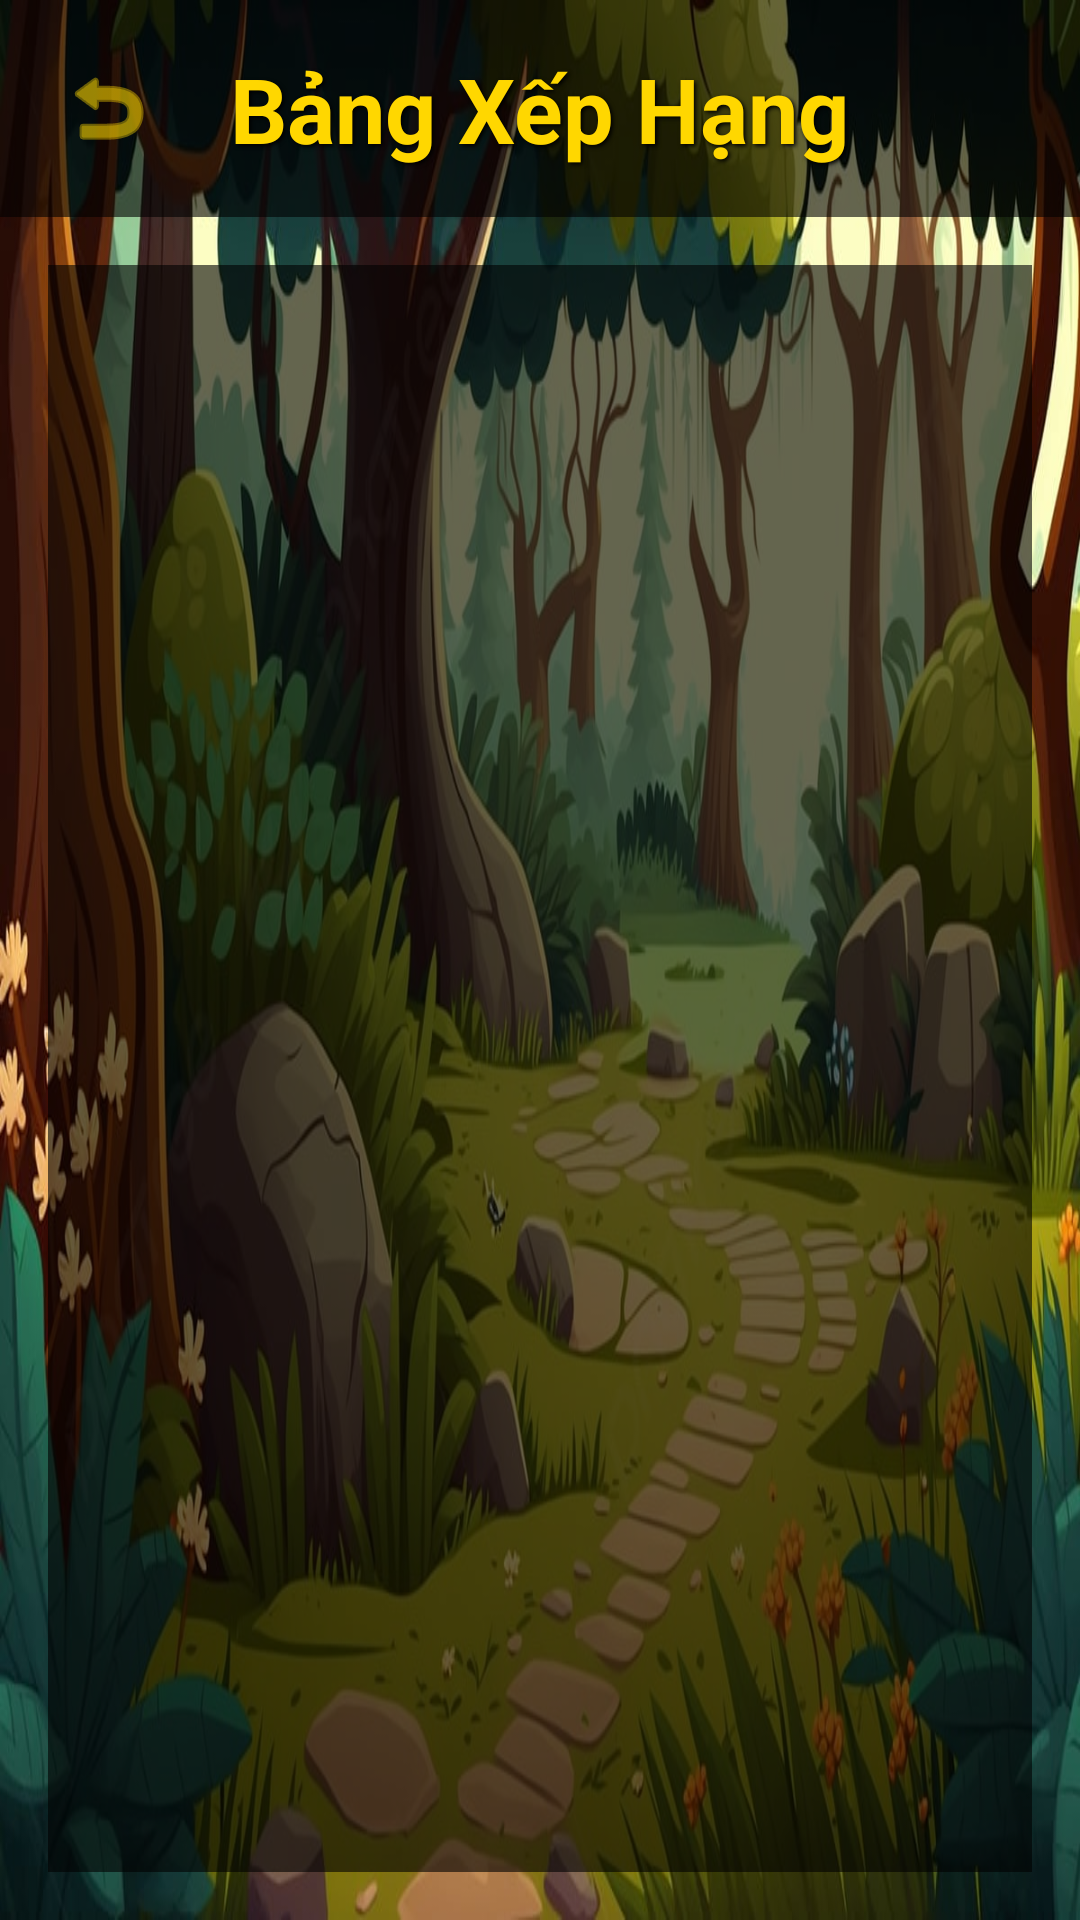

Screen size 1080x1920. Icon name, then its center in pixels as point (x, y):
revert: point (108, 108)
